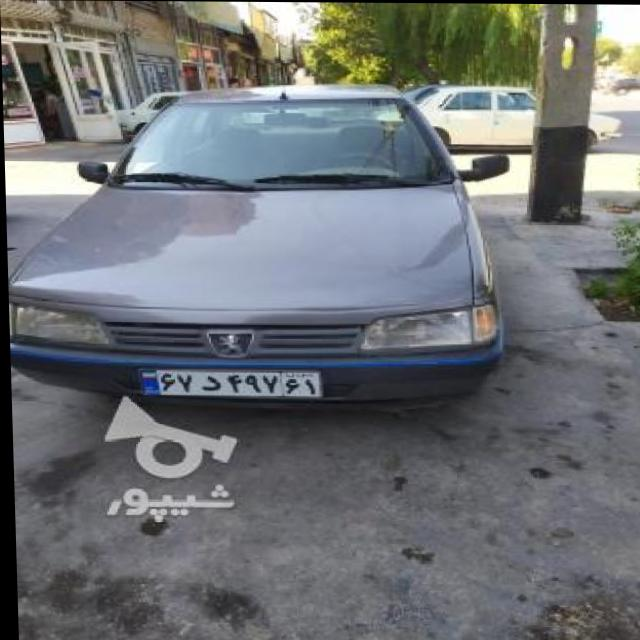licence: (134, 364, 321, 399)
